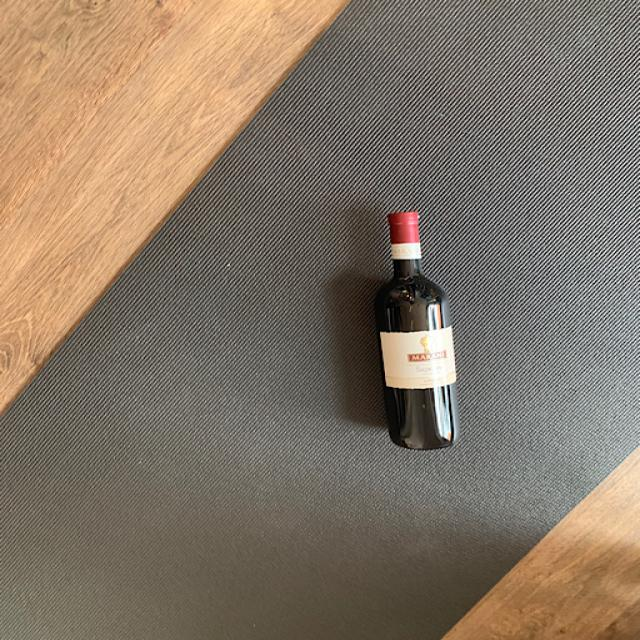Glass Bottle: (369, 208, 461, 450)
